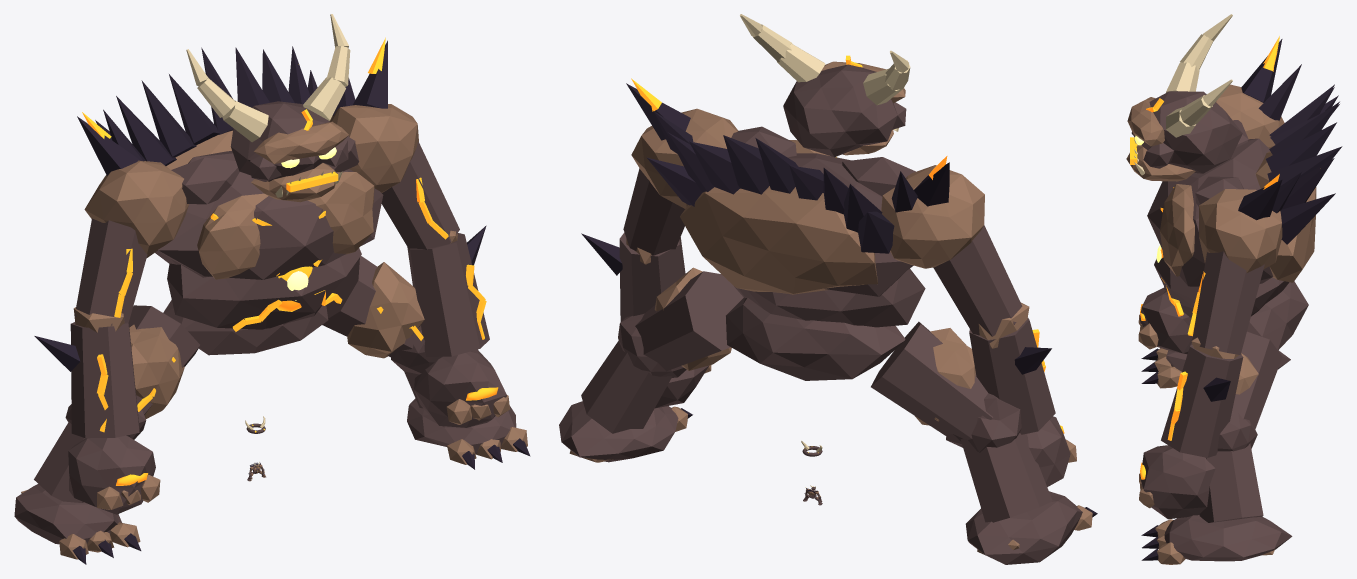
File: colossus.glb
3 renders of one model, left to right at view 1: azimuth 30°, elevation 25°; view 2: azimuth 150°, elevation 25°; view 3: azimuth 270°, elevation 25°, orthographic. The views are drawn at different scales.
Visible parts, largest first — view 1: colossus_body_mesh, colossus_arm_r_mesh, colossus_arm_l_mesh, colossus_leg_r_mesh, colossus_head_mesh, colossus_leg_l_mesh; view 2: colossus_body_mesh, colossus_leg_r_mesh, colossus_leg_l_mesh, colossus_arm_r_mesh, colossus_head_mesh, colossus_arm_l_mesh; view 3: colossus_body_mesh, colossus_arm_l_mesh, colossus_leg_l_mesh, colossus_head_mesh, colossus_arm_r_mesh, colossus_leg_r_mesh.
Part boxes in pixels (x1=…): colossus_body_mesh: x1=77, y1=37, x2=418, y2=355; colossus_arm_r_mesh: x1=34, y1=218, x2=160, y2=514; colossus_arm_l_mesh: x1=381, y1=141, x2=509, y2=427; colossus_leg_r_mesh: x1=14, y1=305, x2=200, y2=564; colossus_head_mesh: x1=186, y1=14, x2=350, y2=202; colossus_leg_l_mesh: x1=322, y1=256, x2=530, y2=469; colossus_body_mesh: x1=626, y1=78, x2=984, y2=380; colossus_leg_r_mesh: x1=871, y1=321, x2=1097, y2=564; colossus_leg_l_mesh: x1=559, y1=267, x2=743, y2=462; colossus_arm_r_mesh: x1=933, y1=225, x2=1076, y2=486; colossus_head_mesh: x1=740, y1=14, x2=910, y2=157; colossus_arm_l_mesh: x1=581, y1=168, x2=711, y2=408; colossus_body_mesh: x1=1147, y1=36, x2=1342, y2=350; colossus_arm_l_mesh: x1=1139, y1=251, x2=1264, y2=519; colossus_leg_l_mesh: x1=1141, y1=331, x2=1292, y2=564; colossus_head_mesh: x1=1126, y1=14, x2=1242, y2=181; colossus_arm_r_mesh: x1=1138, y1=286, x2=1192, y2=354; colossus_leg_r_mesh: x1=1141, y1=348, x2=1290, y2=388.
Size of the model in its own units: 20.98 by 18.79 by 8.8.
